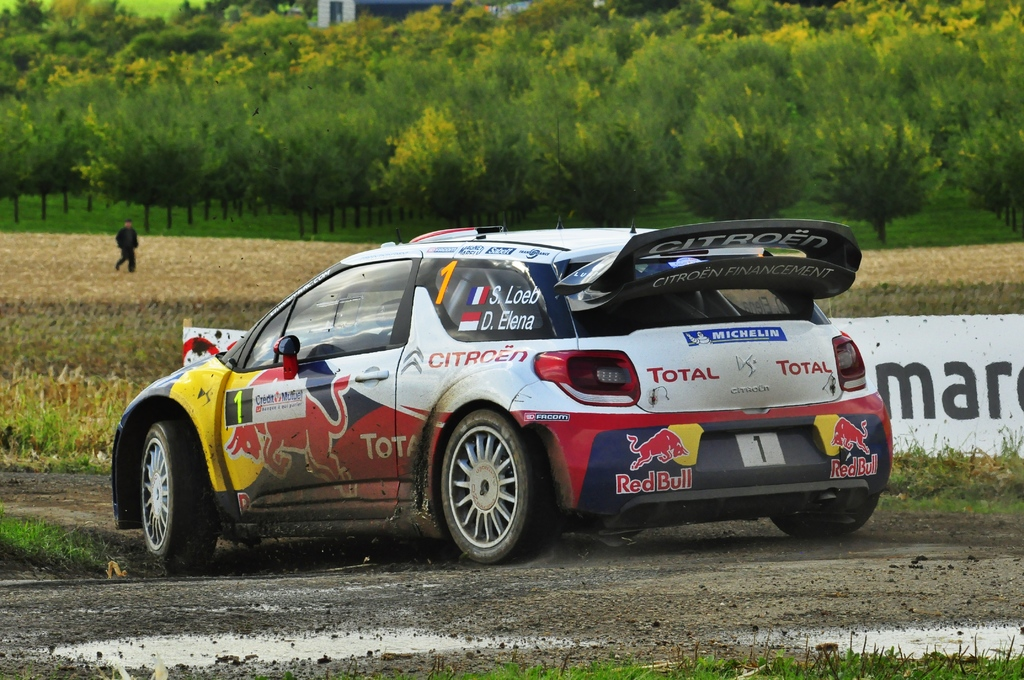Car: (106, 119, 890, 561)
